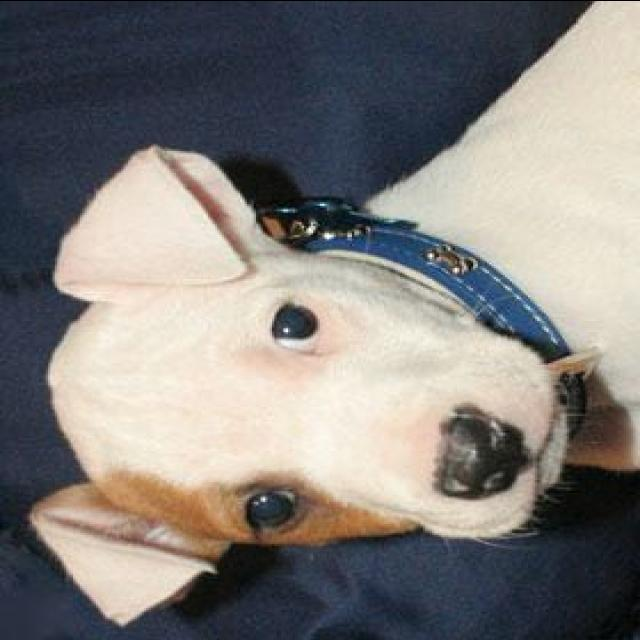staffordshire_bullterrier: (20, 2, 638, 626)
